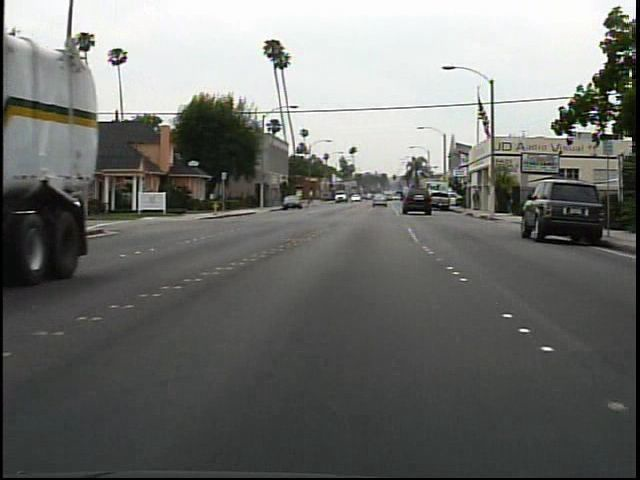person: (467, 187, 484, 216)
